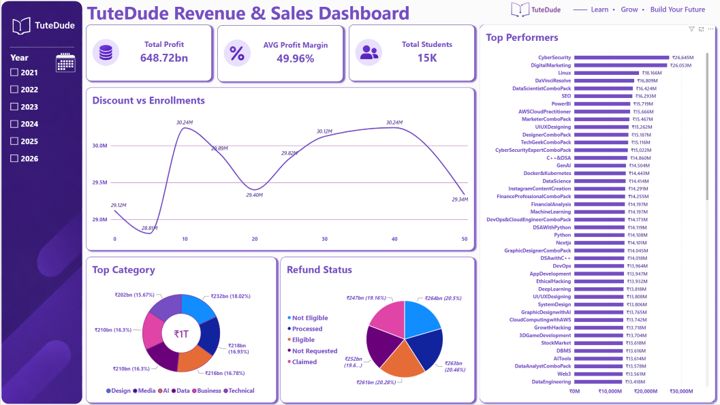

What the dashboard file says about the page in this screenshot:
{"tool":"powerbi","page":{"name":"Revenue & Sales","canvas":[1920,1080],"ordinal":0},"visuals":[{"type":"shape","box":[0,3.9,1920,63.8],"z":0},{"type":"textbox","box":[201.6,0,918.2,67.9],"z":1000},{"type":"image","box":[0,0,220.4,1074.9],"z":2000},{"type":"image","box":[1336.1,4.2,183.9,40.7],"z":3000},{"type":"slicer","fields":{"Values":["Massive_Transactions_Detailed.Year"]},"box":[17.8,135.8,183.9,314.4],"z":4000},{"type":"clusteredBarChart","title":"Top Performers","fields":{"Category":["Massive_Transactions_Detailed.Course Name"],"Y":["Massive_Transactions_Detailed.Total Revenue"]},"box":[1279,83.4,628.2,991.4],"z":5000},{"type":"cardVisual","title":"Total Student Enrolled","fields":{"Data":["Massive_Transactions_Detailed.AVG Profit Margin"]},"box":[577.3,83.5,336.1,151.5],"z":6000},{"type":"pieChart","title":"Refund Status","fields":{"Category":["Massive_Transactions_Detailed.Refund Status"],"Y":["Massive_Transactions_Detailed.Total Revenue"]},"box":[746.4,685.3,518.7,389.6],"z":7000},{"type":"lineChart","title":" Discount vs Enrollments","fields":{"Category":["Massive_Transactions_Detailed.discount"],"Y":["Sum(Massive_Transactions_Detailed.Enrolled Students)"]},"box":[227.7,241.5,1037.5,434.8],"z":8000},{"type":"textbox","box":[1528.3,11.5,379.2,41.8],"z":9000},{"type":"donutChart","title":"Top Category","fields":{"Category":["Massive_Transactions_Detailed.Category"],"Y":["Massive_Transactions_Detailed.Total Revenue"]},"box":[227.7,685.3,509.3,389.6],"z":10000},{"type":"cardVisual","title":"Total Student Enrolled","fields":{"Data":["Massive_Transactions_Detailed.Total Profit"]},"box":[226.7,82.5,336.1,151.5],"z":11000},{"type":"image","box":[129.2,135.4,72.1,60.6],"z":12000},{"type":"cardVisual","title":"Total Student Enrolled","fields":{"Data":["Massive_Transactions_Detailed.Total Students"]},"box":[927.7,82.5,336.1,151.5],"z":13000}]}

Visuals, with their boxes in screenshot pixels (x1, y1, x2, y2), scaled from the page's 1920x1080 canvas onto the 720x405 screenshot:
shape: pyautogui.locateOnScreen(0, 1, 719, 25)
textbox: pyautogui.locateOnScreen(76, 0, 420, 25)
image: pyautogui.locateOnScreen(0, 0, 83, 403)
image: pyautogui.locateOnScreen(501, 2, 570, 17)
slicer - Massive_Transactions_Detailed.Year: pyautogui.locateOnScreen(7, 51, 76, 169)
"Top Performers" clusteredBarChart: pyautogui.locateOnScreen(480, 31, 715, 403)
"Total Student Enrolled" cardVisual: pyautogui.locateOnScreen(216, 31, 343, 88)
"Refund Status" pieChart: pyautogui.locateOnScreen(280, 257, 474, 403)
" Discount vs Enrollments" lineChart: pyautogui.locateOnScreen(85, 91, 474, 254)
textbox: pyautogui.locateOnScreen(573, 4, 715, 20)
"Top Category" donutChart: pyautogui.locateOnScreen(85, 257, 276, 403)
"Total Student Enrolled" cardVisual: pyautogui.locateOnScreen(85, 31, 211, 88)
image: pyautogui.locateOnScreen(48, 51, 75, 74)
"Total Student Enrolled" cardVisual: pyautogui.locateOnScreen(348, 31, 474, 88)
